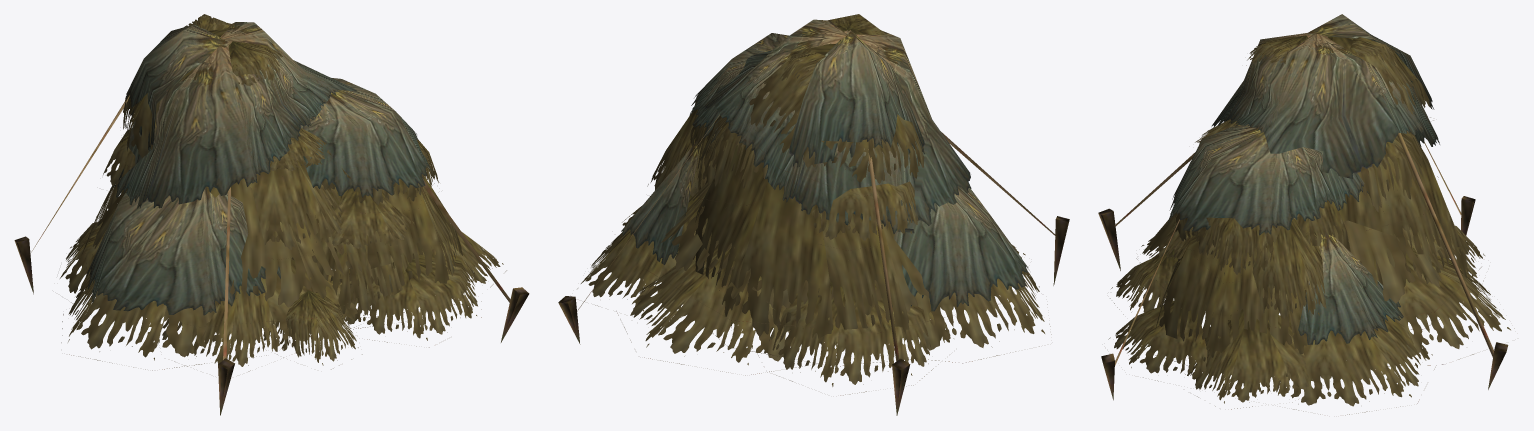
File: GYMB0003_0001_03.FBX
3 views of the same model, side by side, from view 1: azimuth 30°, elevation 25°; view 2: azimuth 150°, elevation 25°; view 3: azimuth 270°, elevation 25° (orthographic). The views are drawn at different scales.
Parts seen in each view (by area): view 1: MB0003_0001_03; view 2: MB0003_0001_03; view 3: MB0003_0001_03.
Part boxes in pixels (x1=…): MB0003_0001_03: x1=14, y1=14, x2=529, y2=415; MB0003_0001_03: x1=558, y1=14, x2=1069, y2=415; MB0003_0001_03: x1=1098, y1=14, x2=1514, y2=415.
Bounding box in the file's own units: 8.69 × 5.74 × 7.48.
